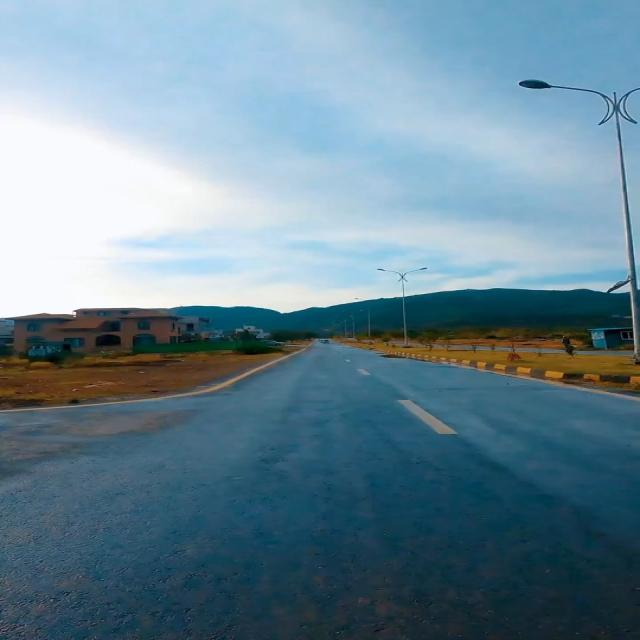asphalt: (0, 342, 639, 639)
grass: (0, 348, 290, 407), (360, 341, 639, 379)
